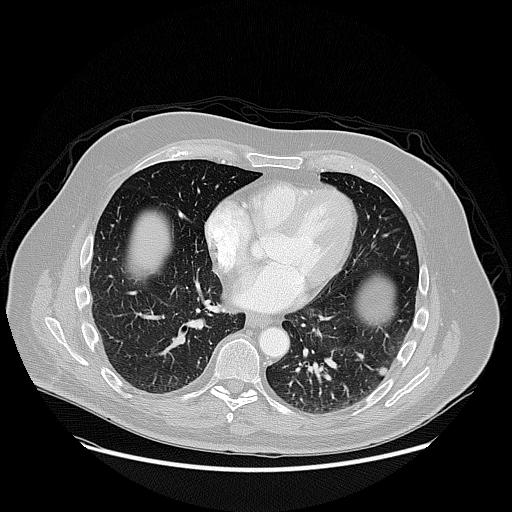nodule: (376, 364, 390, 378)
